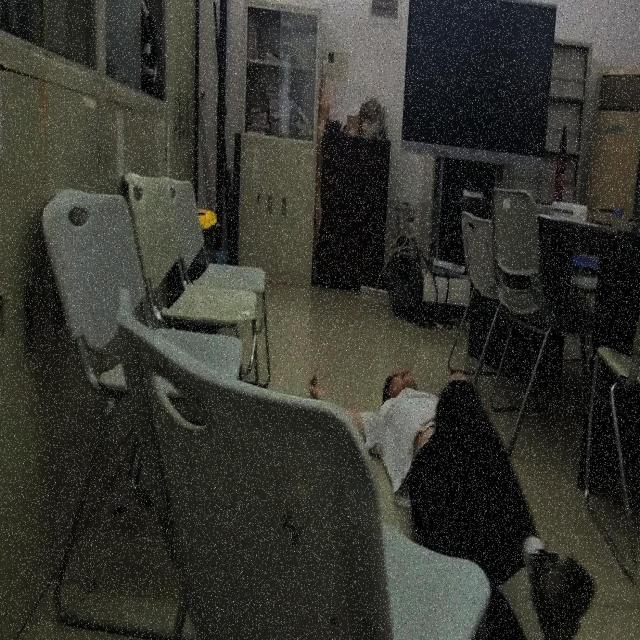fall: (308, 370, 602, 639)
